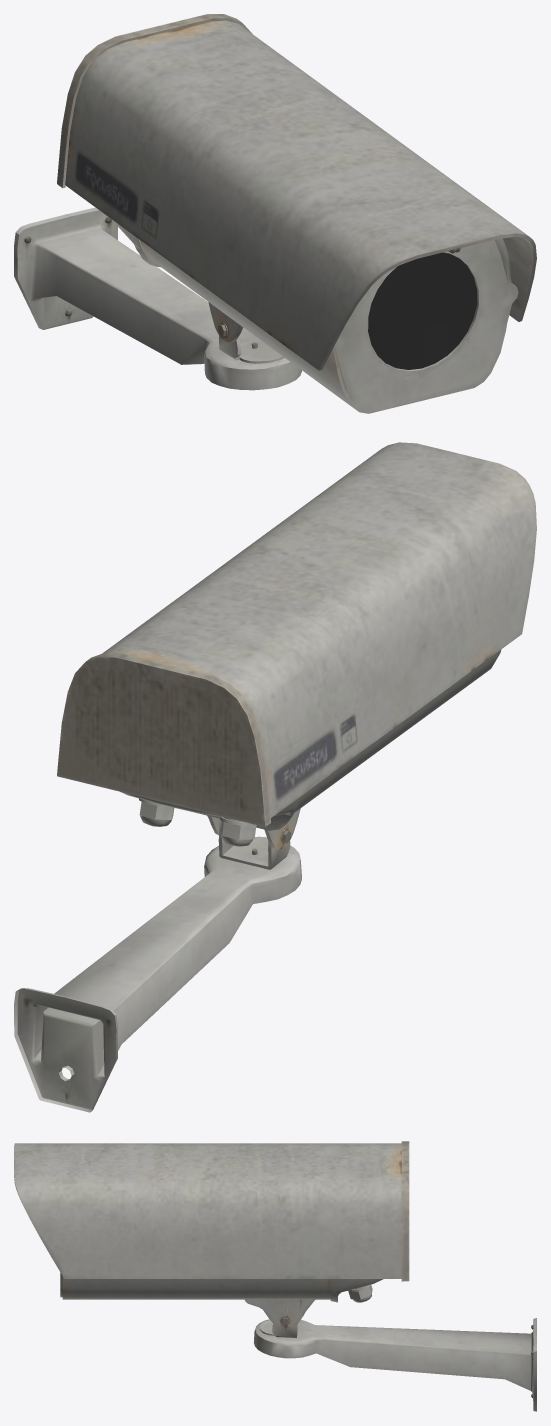
The model's file is security_camera_01.glb.
3 views of the same model, one above another, from view 1: azimuth 30°, elevation 25°; view 2: azimuth 150°, elevation 25°; view 3: azimuth 270°, elevation 25° (orthographic). The views are drawn at different scales.
Parts seen in each view (by area): view 1: security_camera_01; view 2: security_camera_01; view 3: security_camera_01.
Boxes of the visible parts, bbox=[...] form: security_camera_01: bbox=[14, 14, 536, 413]; security_camera_01: bbox=[14, 442, 536, 1112]; security_camera_01: bbox=[14, 1141, 536, 1411].
Bounding box in the file's own units: 0.1695 × 0.2857 × 0.5537.
1 material, 1 textured.
